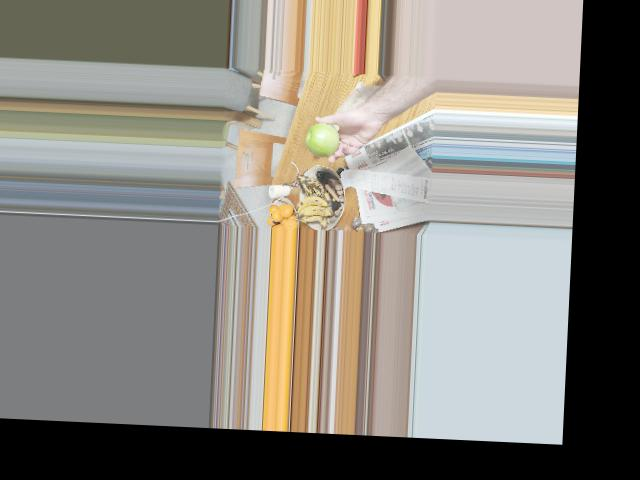apple: (303, 122, 342, 158)
